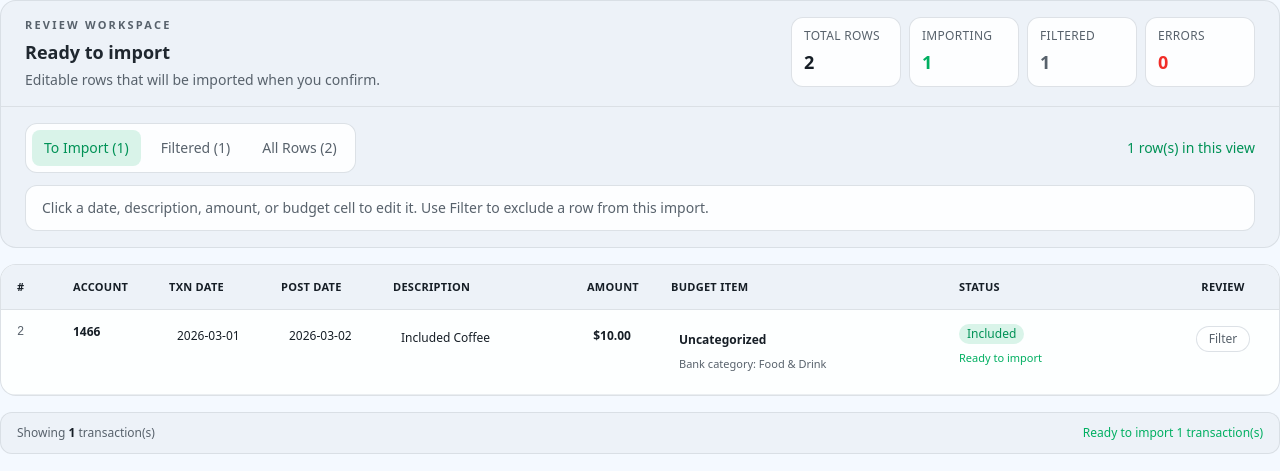
Scenario: CsvPreviewTableEnhanced › shows only filtered rows in the filtered tab even when row numbers repeat across files
Check: the text "Included Coffee" is shown, box left=401, top=329, right=490, bottom=346
Check: the text "Filtered Mortgage" is not shown
Click the button "Filtered (1)": (195, 148) left=149, top=130, right=242, bottom=166
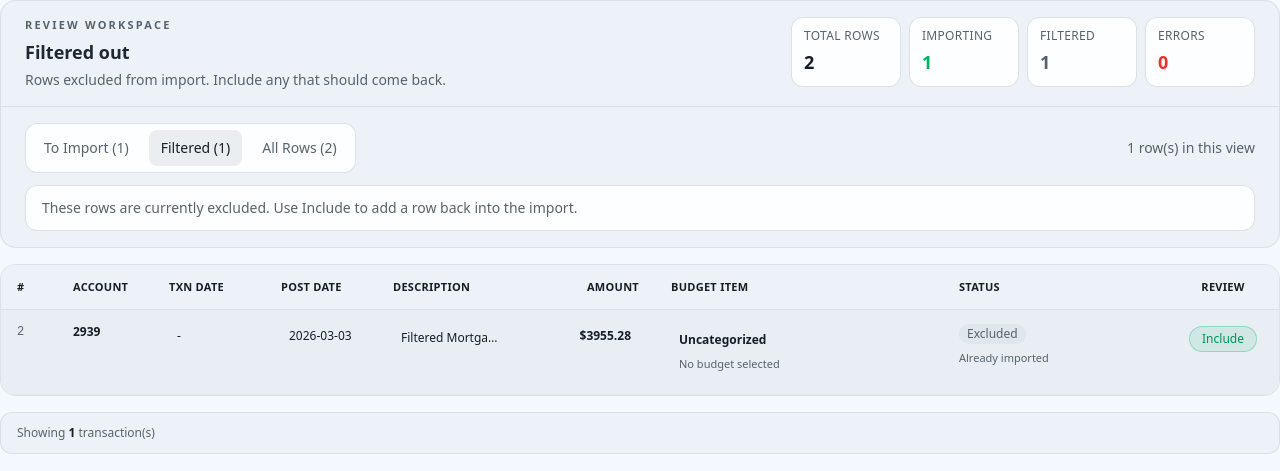
Check: the text "Filtered Mortgage" is shown, box left=393, top=324, right=511, bottom=352
Check: the text "Included Coffee" is gone
